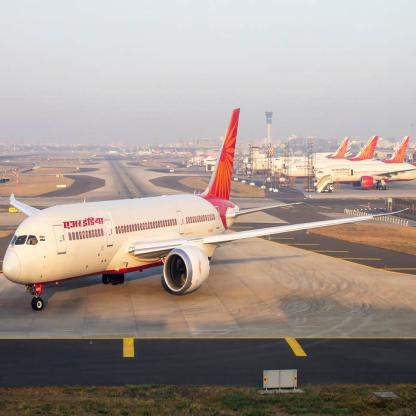CIV_Plane: (3, 110, 410, 322)
